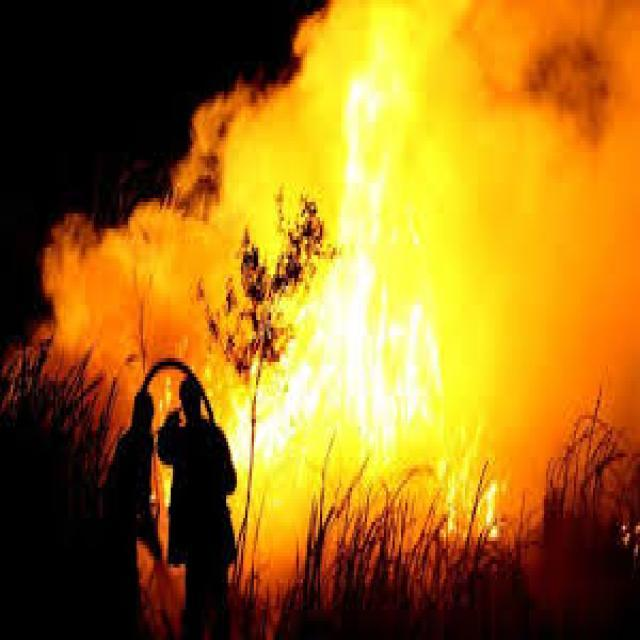Fire: (238, 85, 447, 459)
Smoke: (30, 0, 640, 499)
